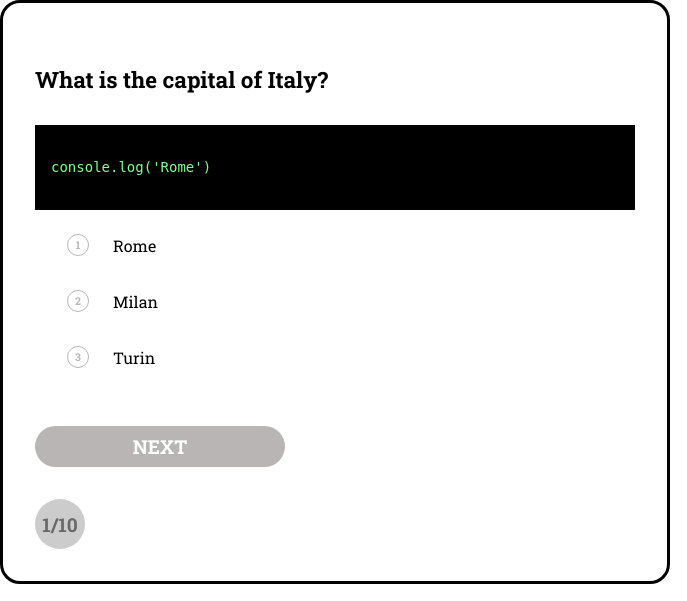
it: QuestionCard component with private question › next button is initially disabled, and activates after an answer is selected
The width and height of the screenshot is (687, 601).
Check: the button "NEXT" has style "background-color: #b9b5b5", box [35, 426, 285, 467]
Check: the button "NEXT" is disabled, box [35, 426, 285, 467]
Click the text "Turin" at (134, 358), box [113, 347, 155, 368]
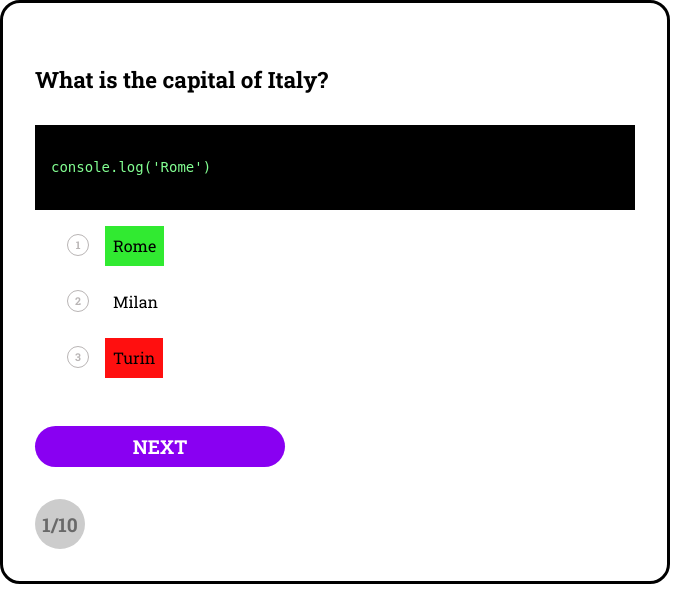
Check: the button "NEXT" is enabled, box [35, 426, 285, 467]
